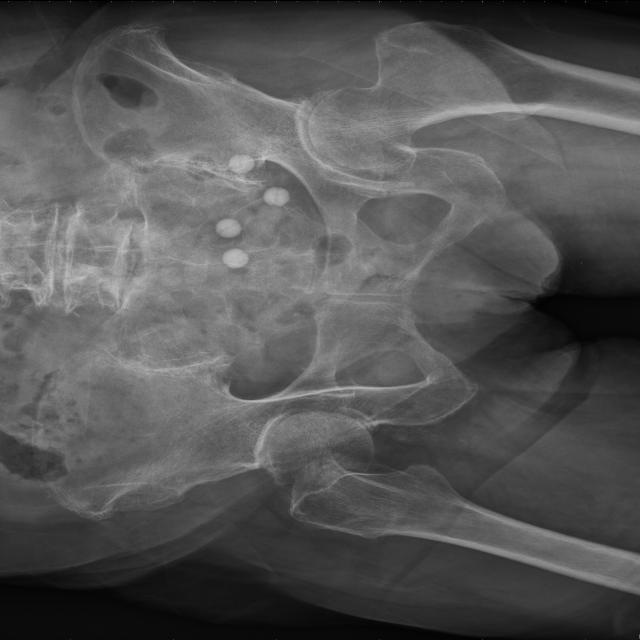normal-left: (308, 19, 640, 168)
right-neck: (284, 463, 526, 557), (268, 409, 374, 487)
